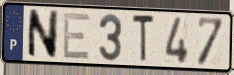3: (98, 12, 123, 63)
4: (164, 16, 191, 66)
7: (197, 16, 225, 68)
E: (61, 12, 92, 62)
N: (26, 7, 60, 60)
T: (132, 13, 156, 66)
